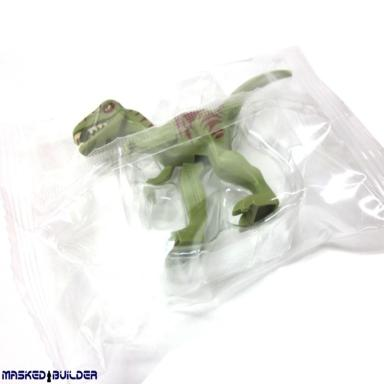plasticbag: (66, 40, 382, 317)
